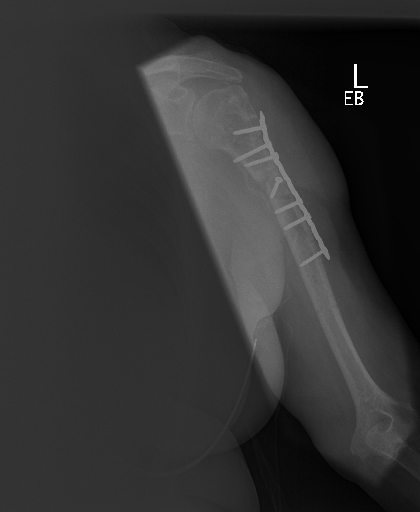implant: (228, 108, 333, 269)
